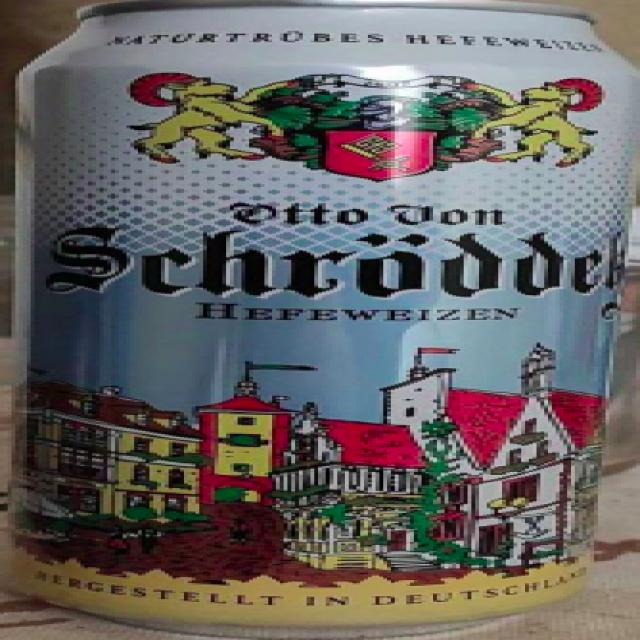Otto Von Schrodder Hefeweizen: (0, 1, 640, 640)
